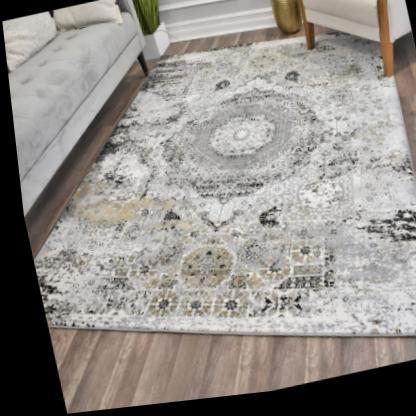Carpet: (28, 32, 416, 343)
